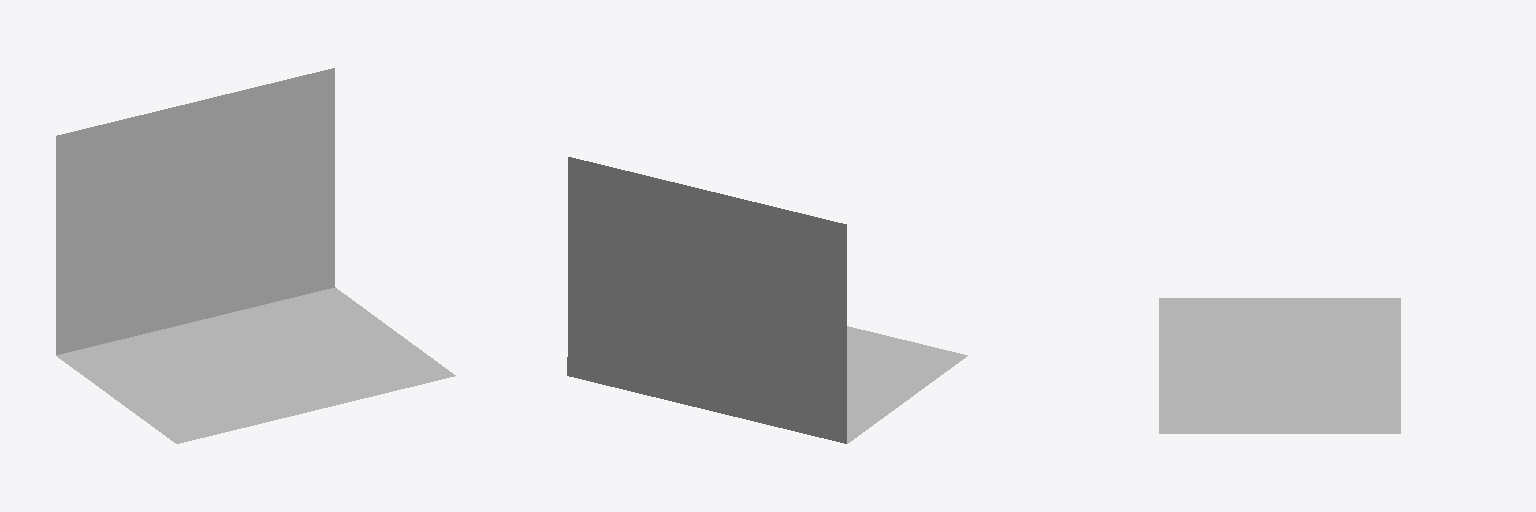
Rendered from CloseUpScene.obj.
3 views of the same model, side by side, from view 1: azimuth 30°, elevation 25°; view 2: azimuth 150°, elevation 25°; view 3: azimuth 270°, elevation 25° (orthographic).
Parts seen in each view (by area): view 1: Default; view 2: Default; view 3: Default.
Boxes of the visible parts, x1,y1,x2,y2 form: Default: [56, 68, 455, 443]; Default: [567, 157, 967, 443]; Default: [1159, 298, 1400, 433].
Size of the model in its own units: 16 by 12 by 12.